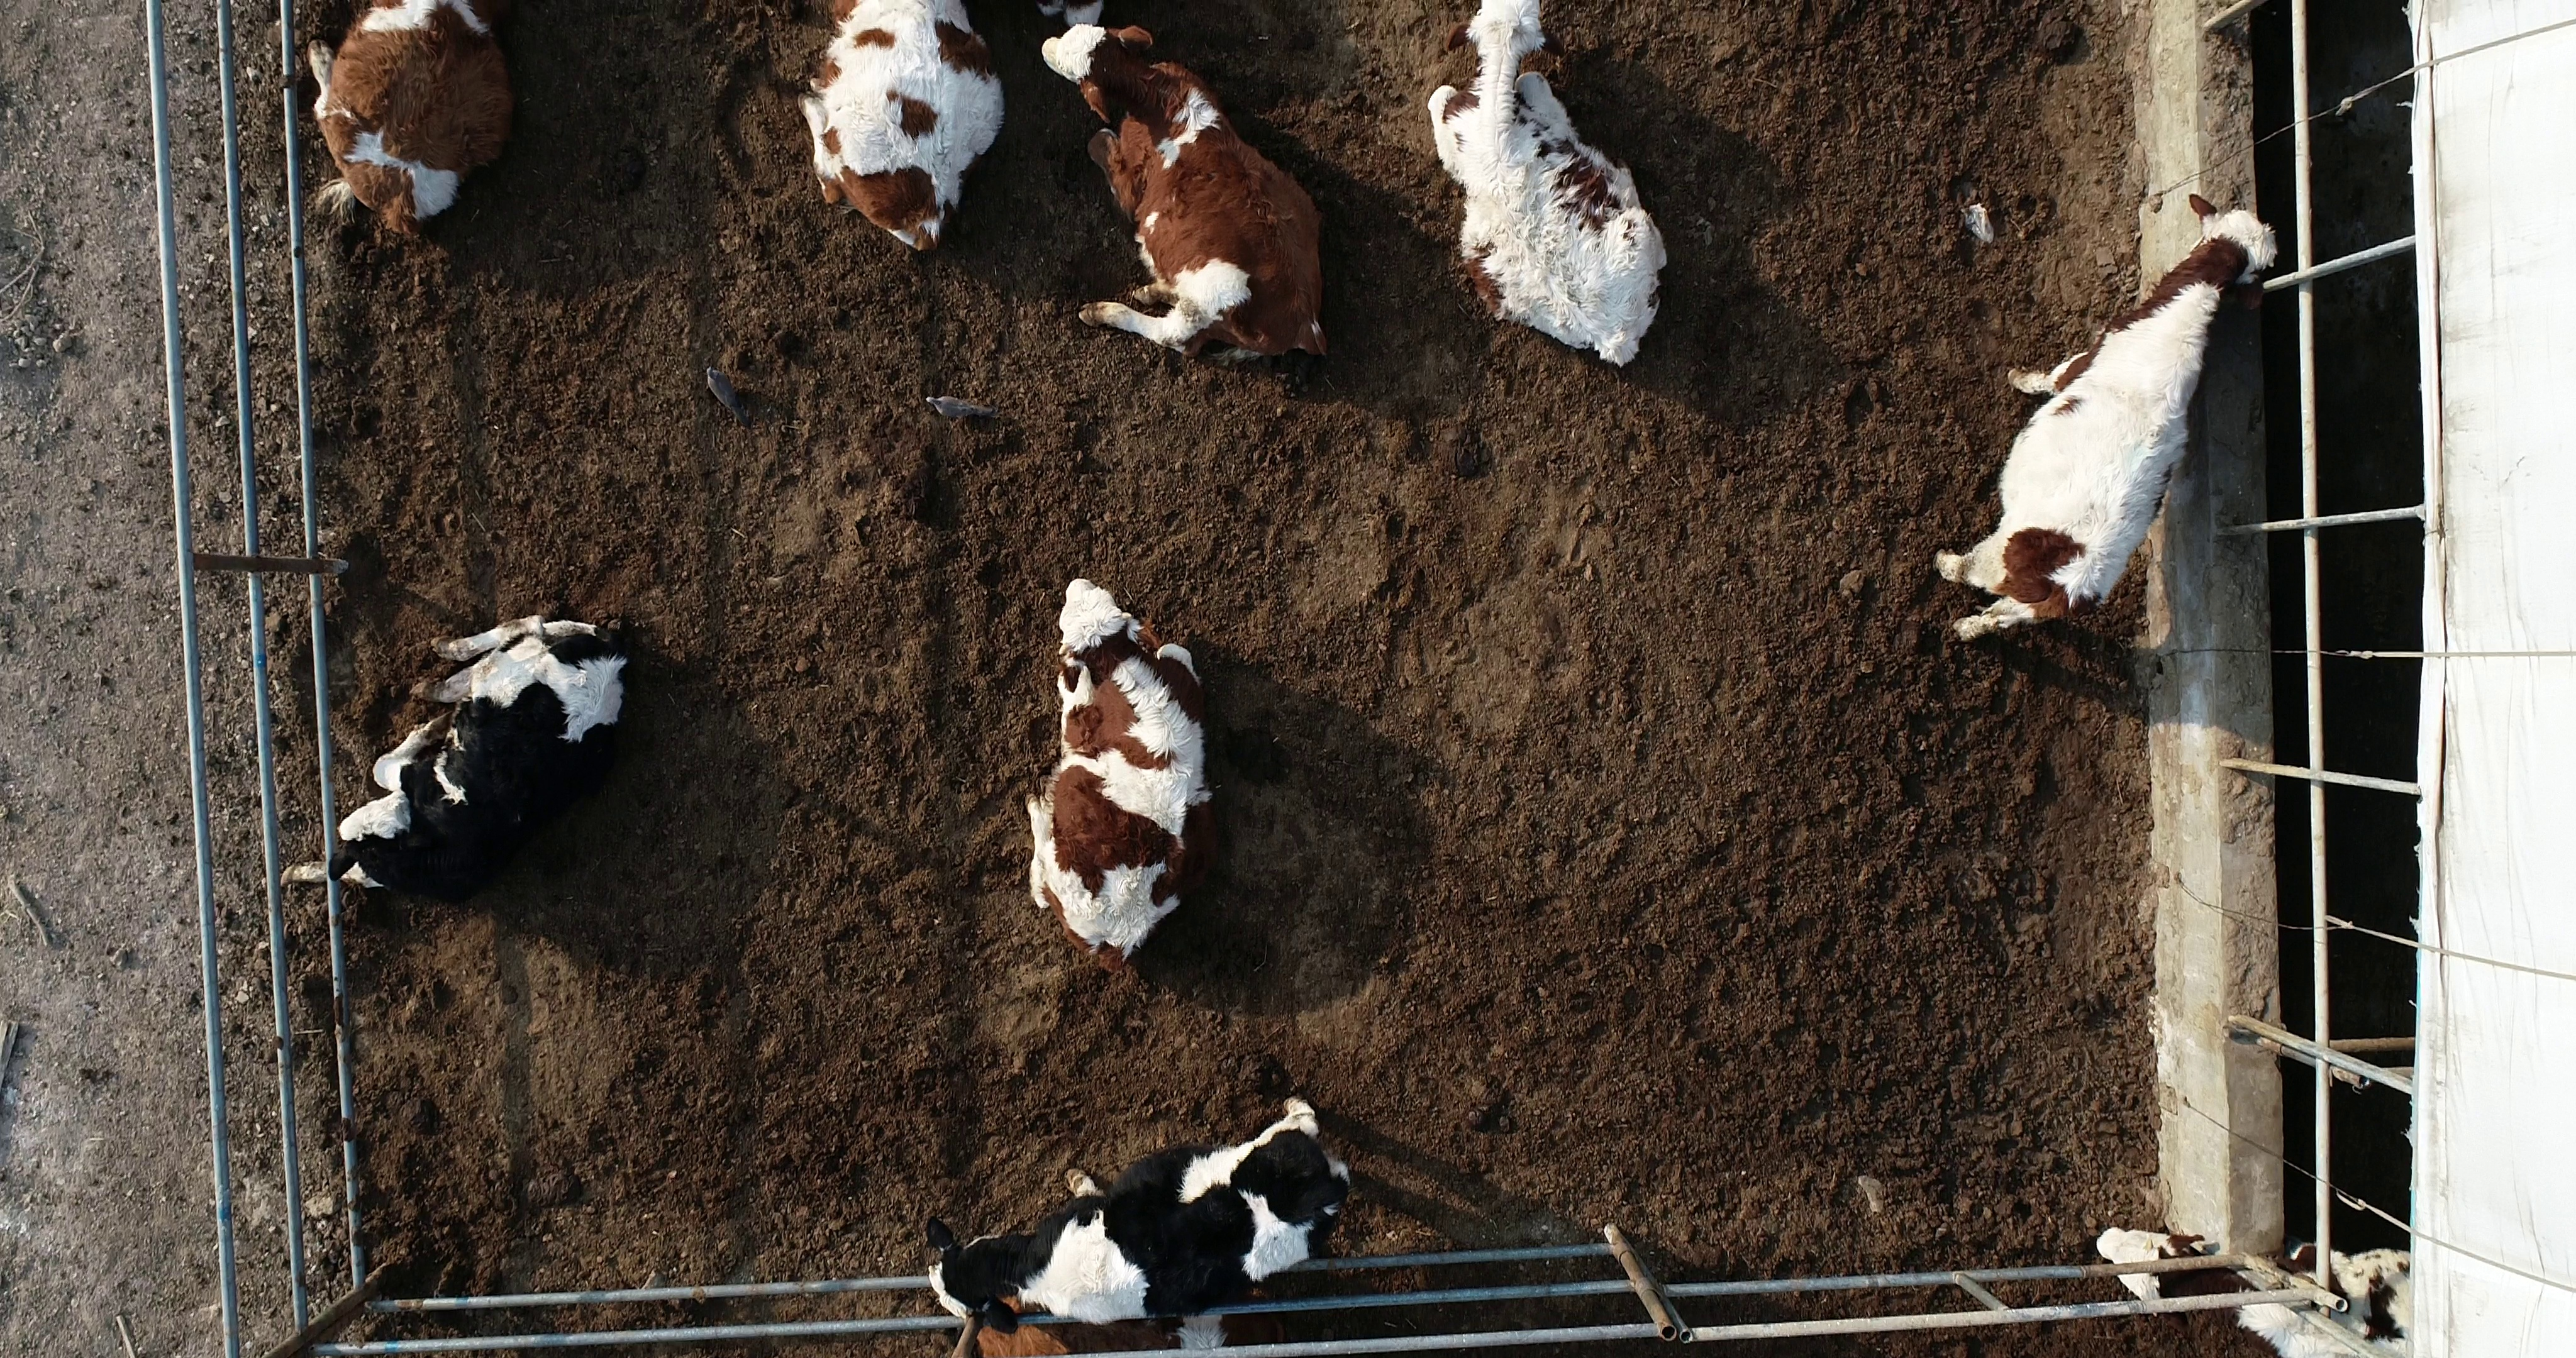cattle: (1930, 191, 2283, 651), (1021, 573, 1220, 980)
